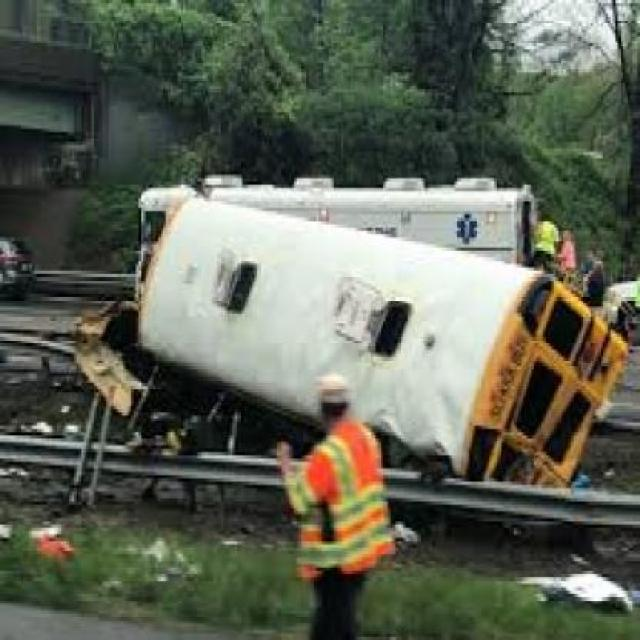accident: (132, 184, 626, 496)
